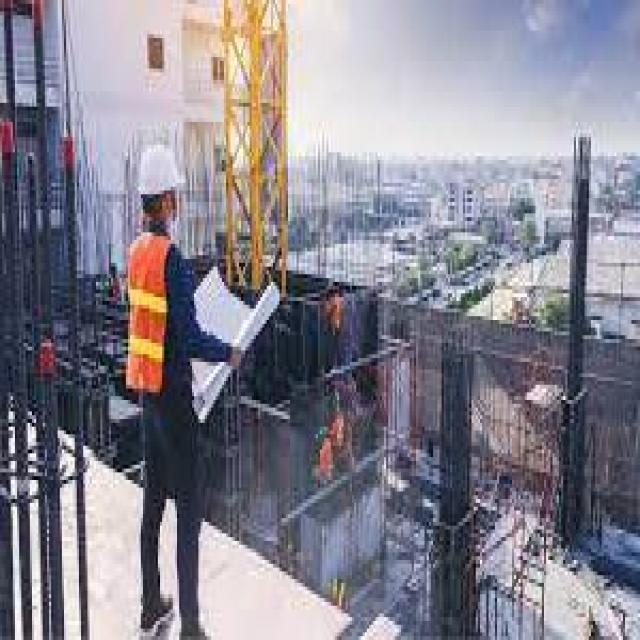Reflective-Jacket: (117, 225, 188, 419)
Safety-Helmet: (130, 137, 184, 210)
